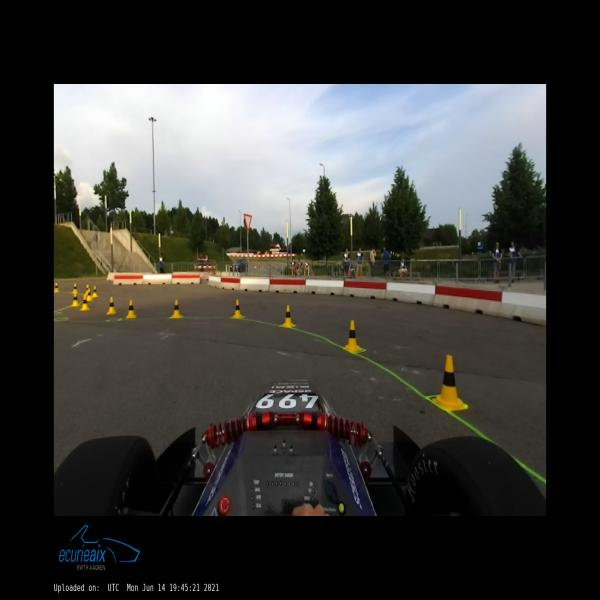yellow_cone: (433, 355, 465, 411), (344, 320, 362, 352), (282, 305, 294, 327), (126, 299, 136, 318), (172, 299, 181, 318), (233, 299, 242, 318), (107, 297, 116, 314), (80, 295, 90, 310), (71, 292, 79, 306), (86, 289, 92, 301), (92, 286, 98, 297), (73, 283, 77, 293), (85, 284, 89, 294), (54, 283, 58, 292)
